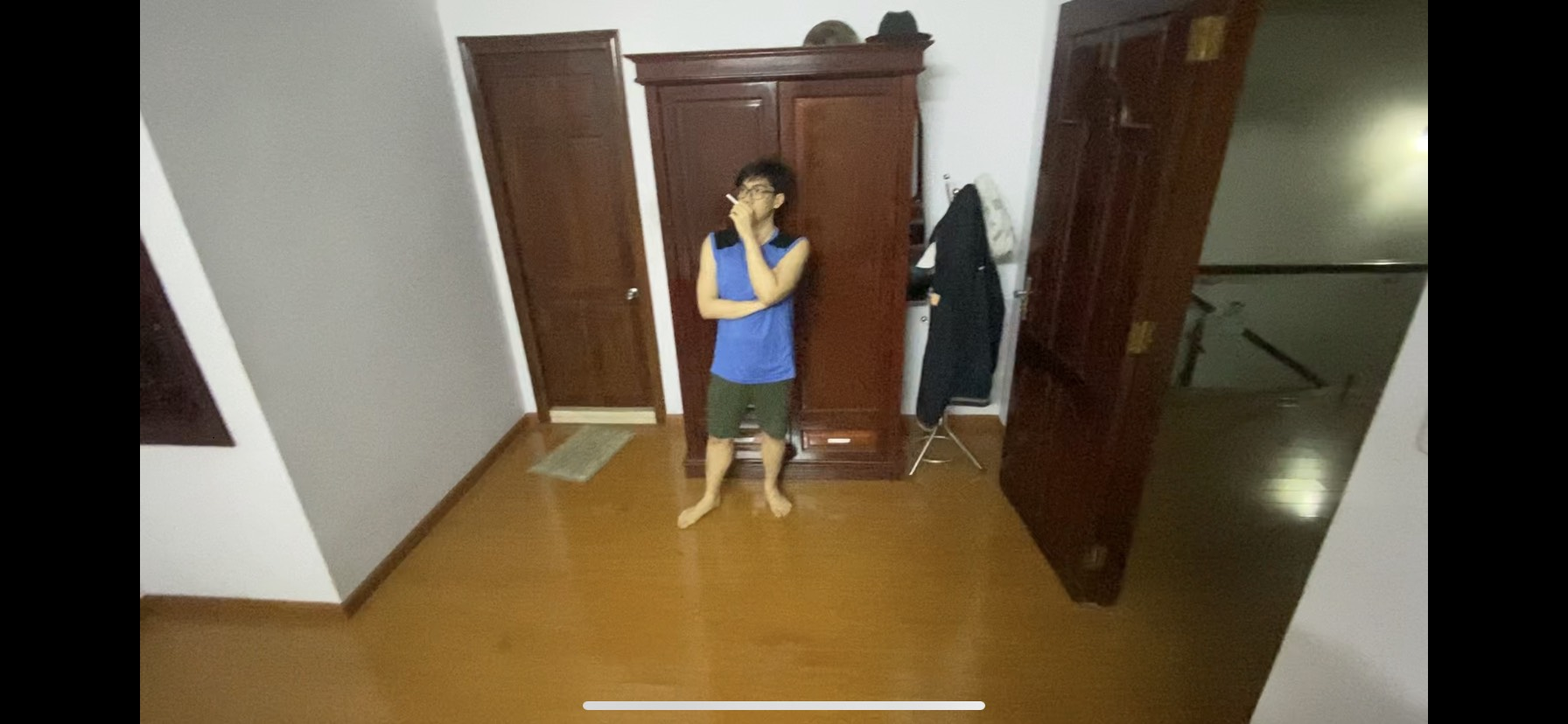cigarette: (722, 189, 741, 203)
person: (673, 135, 829, 552)
